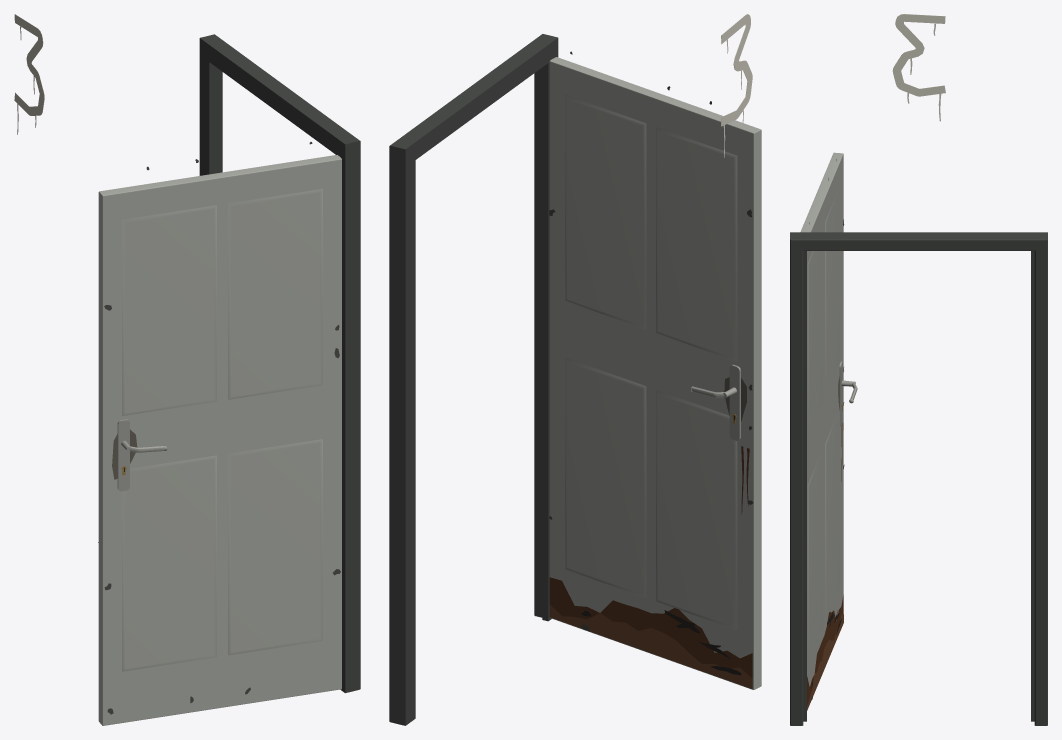
File: door_level3.glb
The picture shows the model from 3 angles, left to right: view 1: azimuth 30°, elevation 25°; view 2: azimuth 150°, elevation 25°; view 3: azimuth 270°, elevation 25°; orthographic projection. The views are drawn at different scales.
Parts seen in each view (by area): view 1: tuer_level31, tuer_level30, tuer_level311, tuer_level32; view 2: tuer_level31, tuer_level30, tuer_level39, tuer_level38, tuer_level311, tuer_level32; view 3: tuer_level30, tuer_level31, tuer_level311, tuer_level39, tuer_level38.
Part boxes in pixels (x1,y1,x2,y2): tuer_level31: [98, 155, 341, 725]; tuer_level30: [199, 34, 360, 693]; tuer_level311: [14, 14, 44, 134]; tuer_level32: [117, 419, 167, 491]; tuer_level31: [549, 57, 761, 689]; tuer_level30: [389, 34, 558, 725]; tuer_level39: [549, 446, 752, 678]; tuer_level38: [549, 604, 752, 688]; tuer_level311: [721, 14, 752, 157]; tuer_level32: [690, 364, 740, 440]; tuer_level30: [790, 232, 1047, 725]; tuer_level31: [800, 152, 843, 686]; tuer_level311: [892, 14, 945, 121]; tuer_level39: [807, 423, 843, 705]; tuer_level38: [807, 614, 843, 710].
Bounding box in the file's own units: 1.01 × 2.52 × 0.98.
